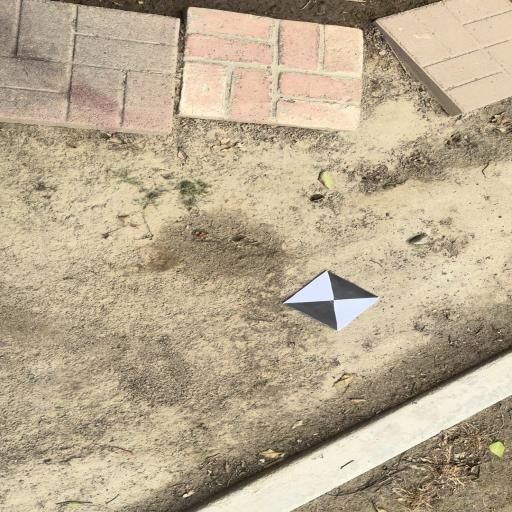target: (283, 271, 379, 332)
